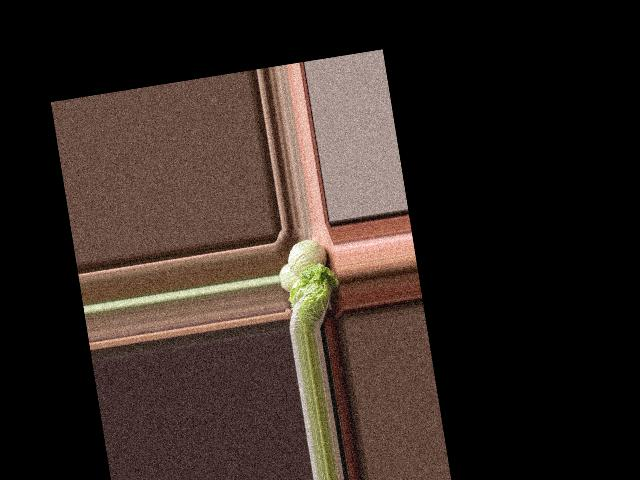lettuce: (281, 260, 346, 332)
